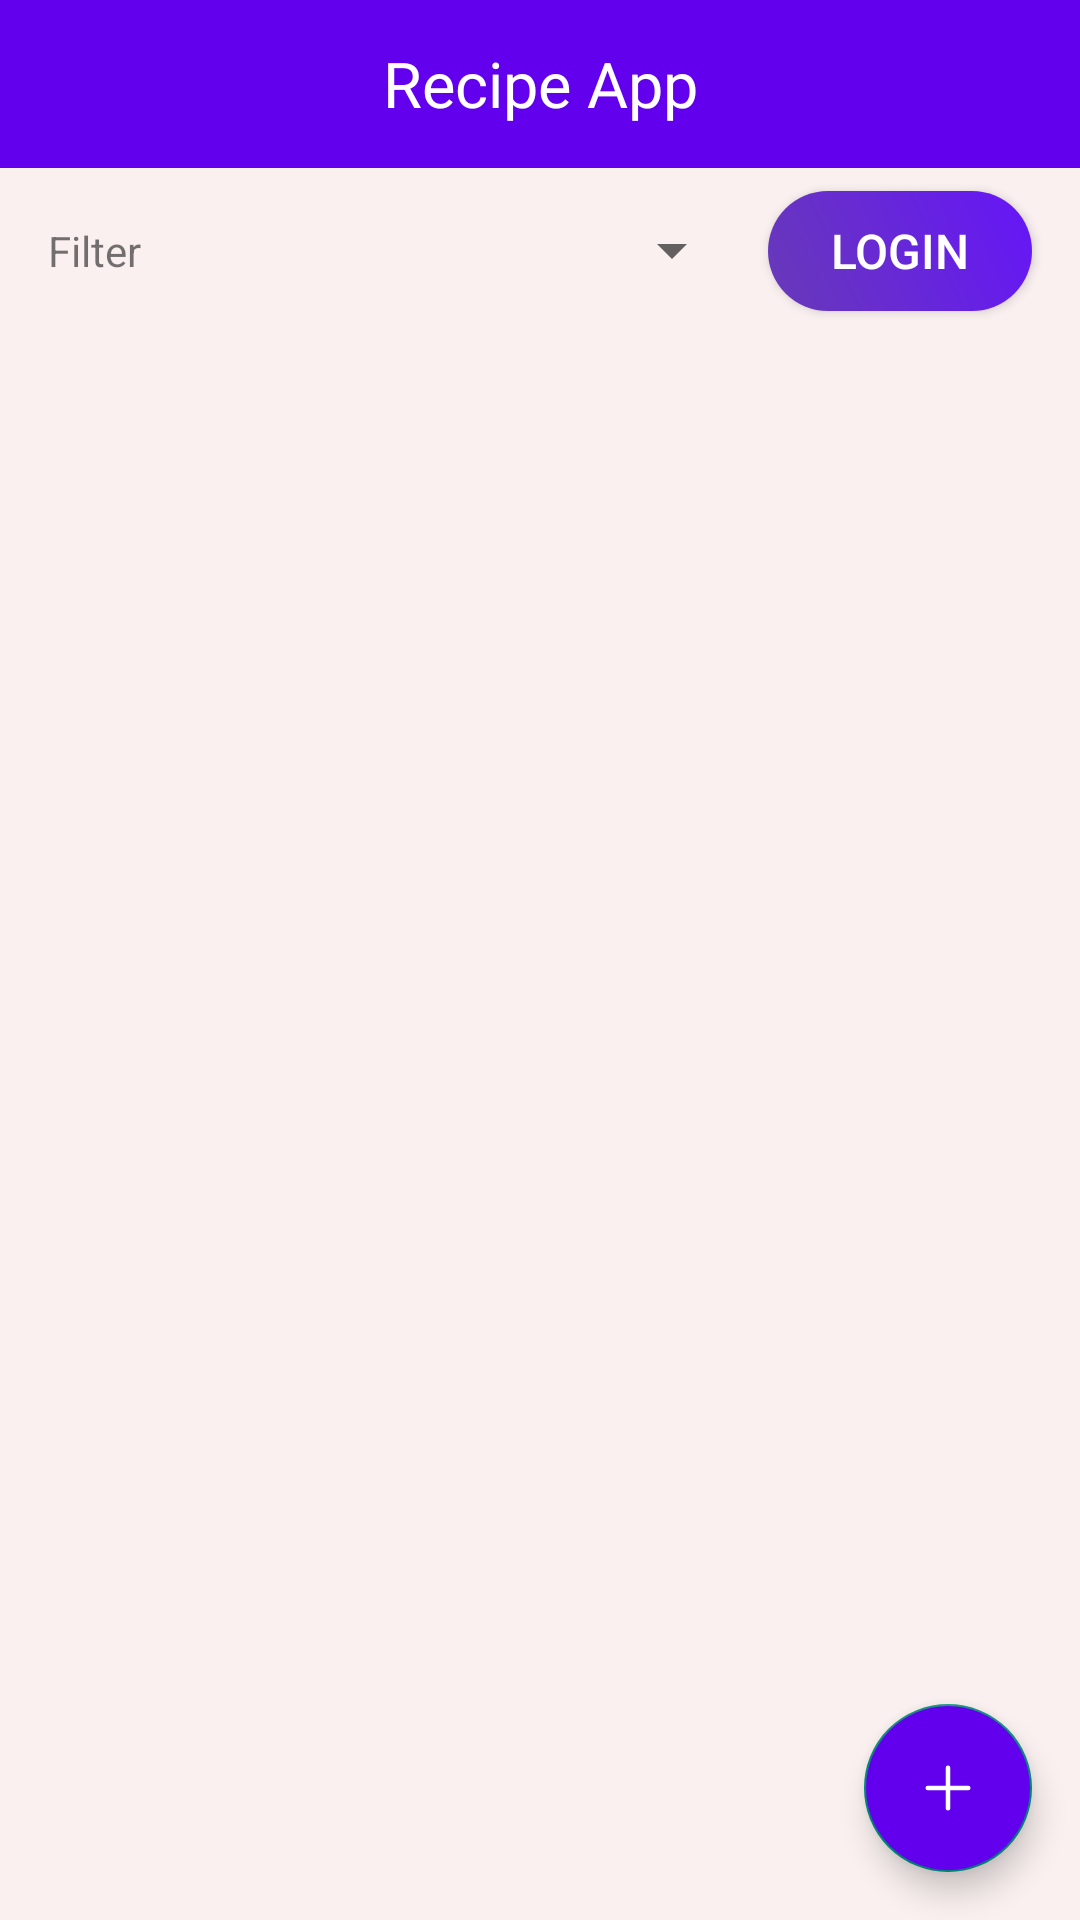

Named icons in this screenshot (1080x1920) and their bounding boxes, rect(x1, y1, x2, y2):
Add button: rect(864, 1704, 1032, 1872)
